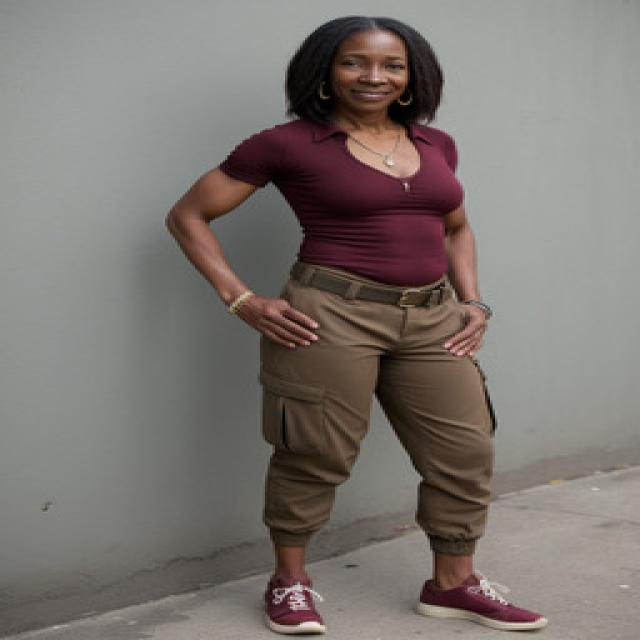Ai human 2: (157, 10, 562, 634)
